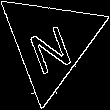N_N: (24, 11, 77, 73)
